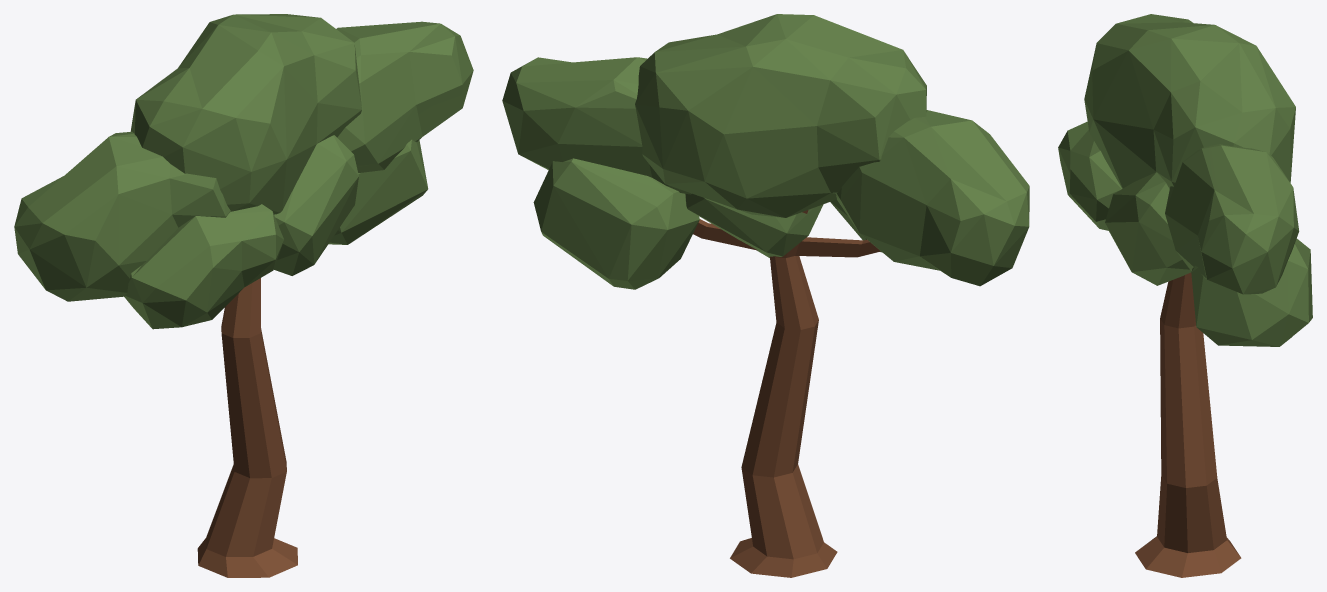
Rendered from arbol6.glb.
3 renders of one model, left to right at view 1: azimuth 30°, elevation 25°; view 2: azimuth 150°, elevation 25°; view 3: azimuth 270°, elevation 25°, orthographic.
Visible parts, largest first — view 1: Circle_1; view 2: Circle_1; view 3: Circle_1.
Boxes of the visible parts, box(x1,y1,x2,y2) form: Circle_1: box(14, 14, 473, 577); Circle_1: box(502, 14, 1029, 577); Circle_1: box(1058, 14, 1312, 577).
Size of the model in its own units: 2.05 by 2.16 by 0.951.
